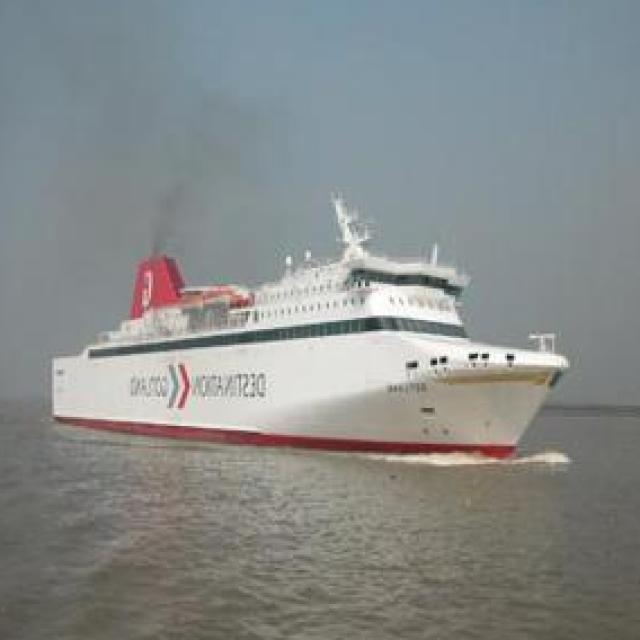passenger ship: (42, 202, 574, 435)
